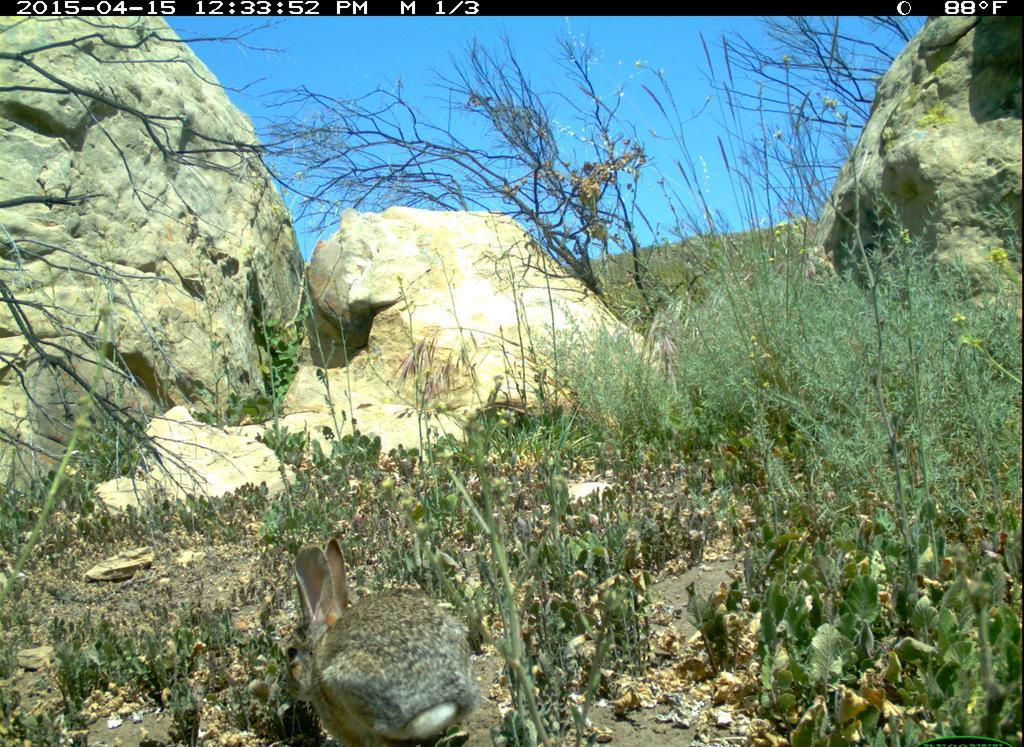rabbit: (272, 534, 489, 745)
